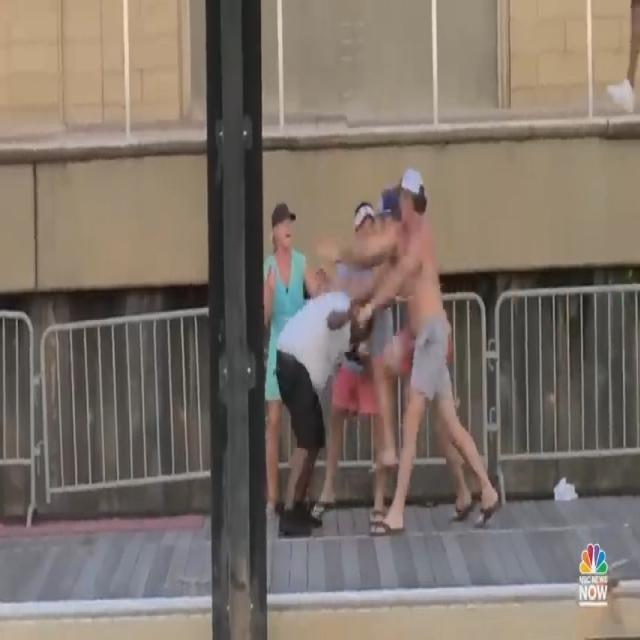fight: (258, 162, 508, 538)
